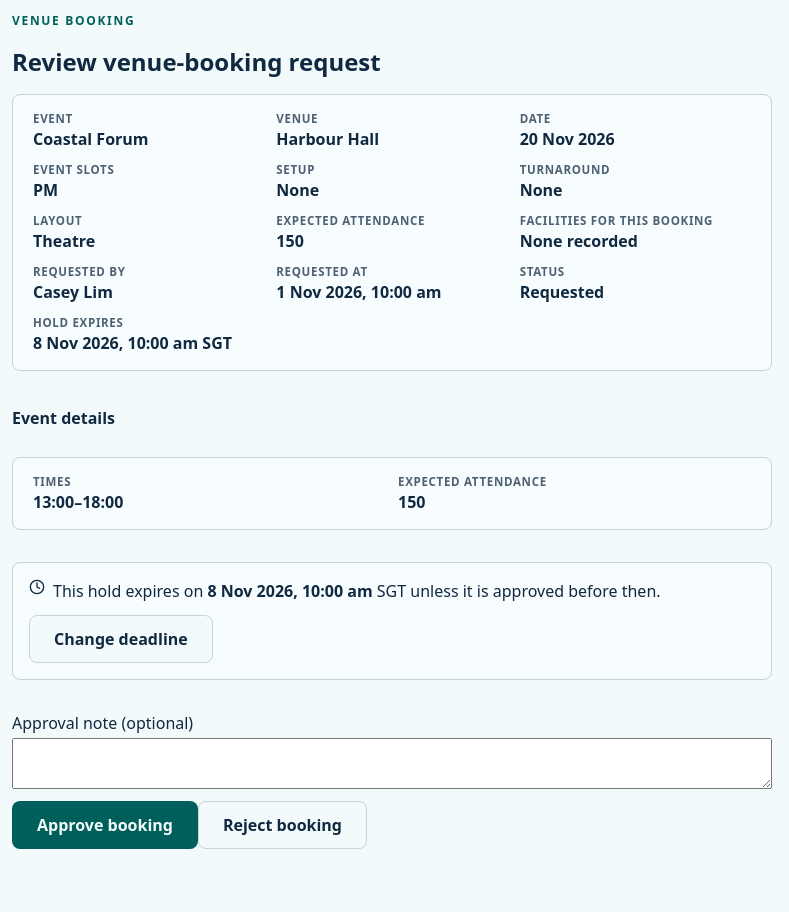
Test: [QA-SPL-133-093] an approval refused because the hold expired reloads and shows Expired
What coordinates should you click on to do the following:
click the button "Approve booking"
I would click on:
 (105, 825)
Its box is top-left (12, 801), bottom-right (198, 849).
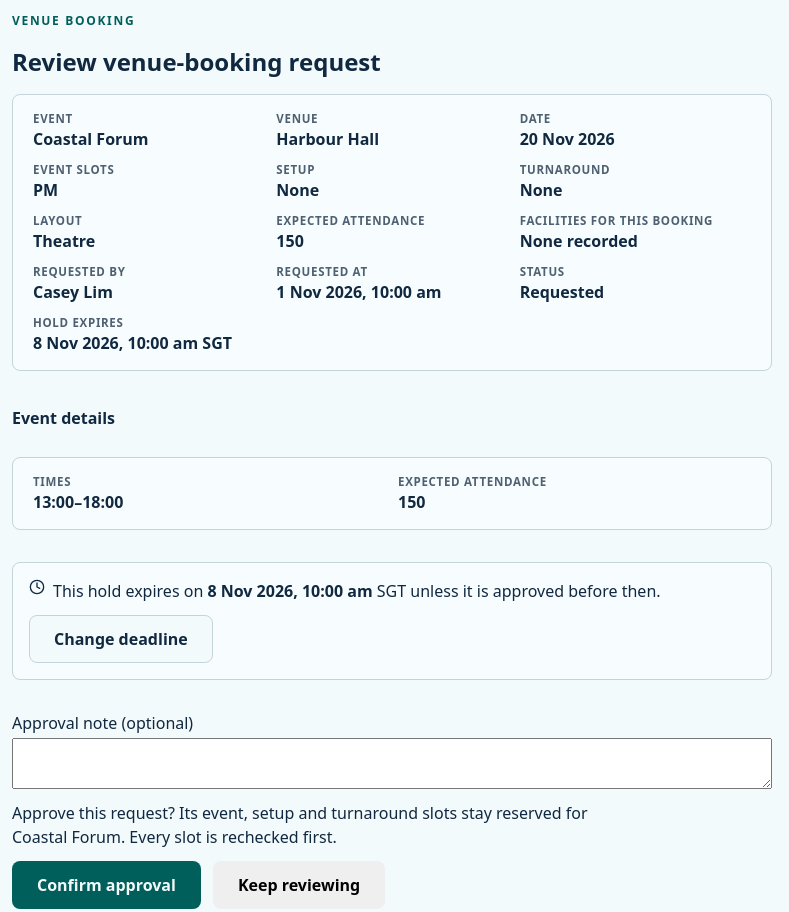
What coordinates should you click on to do the following:
click the button "Confirm approval"
I would click on:
 (106, 885)
Its box is top-left (12, 861), bottom-right (201, 909).
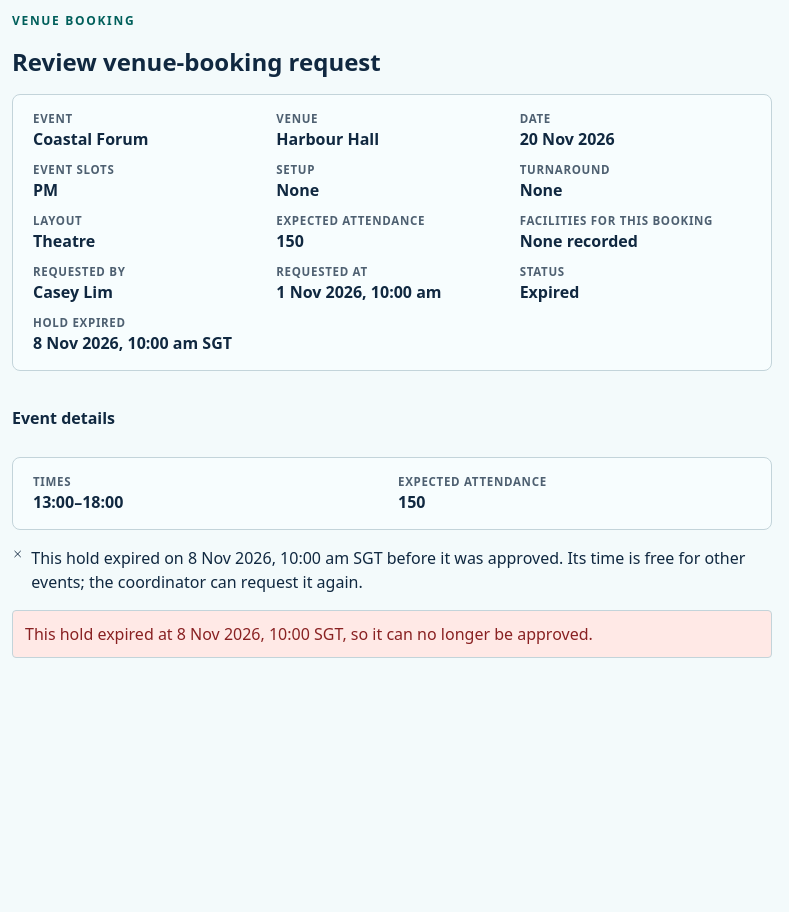
Now the message "This hold expired at 8 Nov 2026, 10:00 SGT, so it can no longer be approved." is shown, box top-left (12, 610), bottom-right (772, 658)
Now the text "This hold expired on 8 Nov 2026, 10:00 am SGT before it was approved" is shown, box top-left (31, 546), bottom-right (772, 594)
Now the list named "Request details" shows "Expired", box top-left (520, 281), bottom-right (580, 303)
